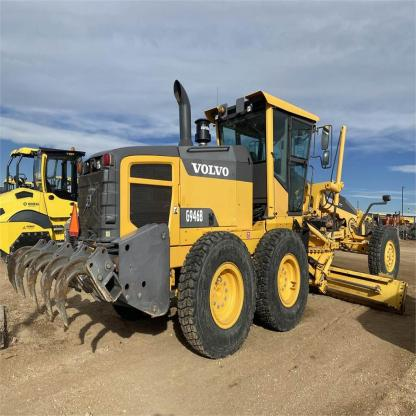bull_dozer/loader/grader: (27, 78, 411, 360)
